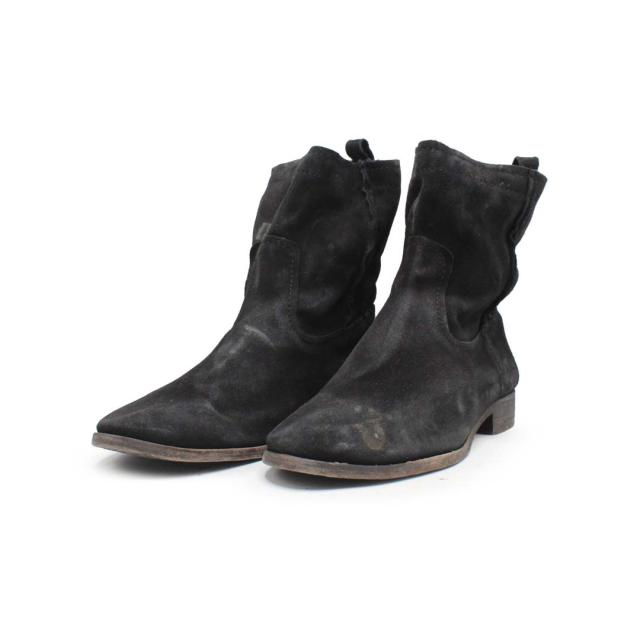midsole: (263, 388, 517, 479), (92, 430, 265, 460)
uppersole: (95, 150, 368, 444), (274, 141, 522, 463)
